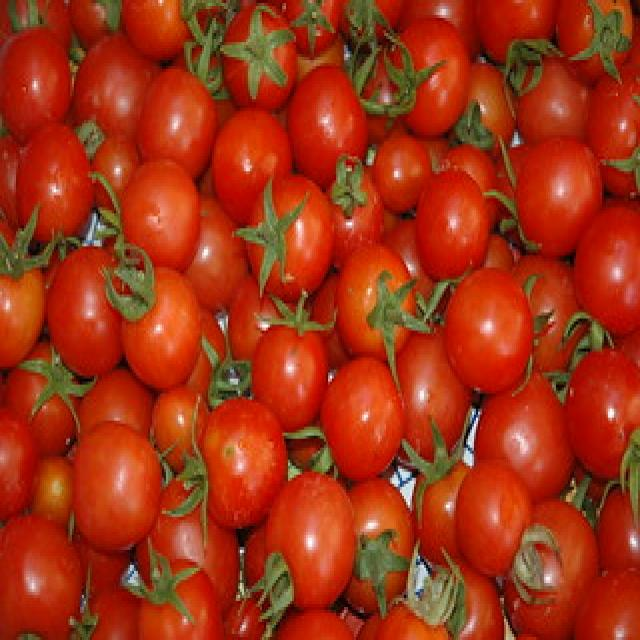Tomato: (266, 471, 357, 614), (440, 267, 533, 398), (242, 172, 335, 302), (107, 156, 202, 281), (323, 357, 407, 491), (336, 245, 414, 361)
